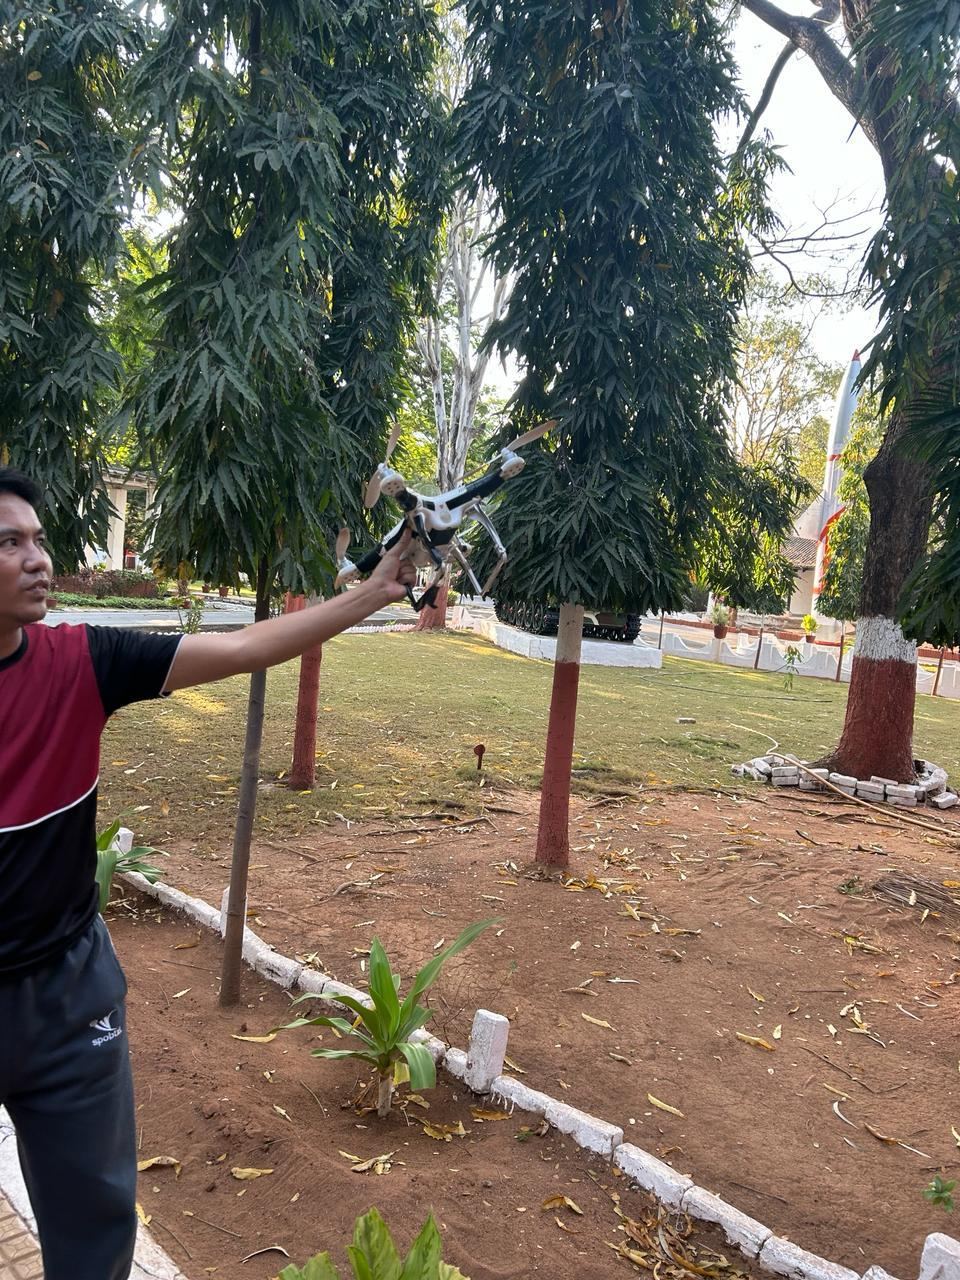drone: (328, 407, 570, 634)
